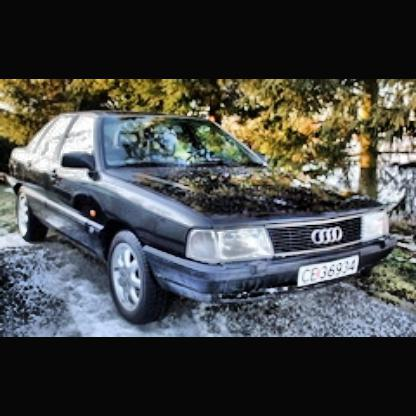Audi 100 Sedan 1994: (11, 112, 401, 328)
